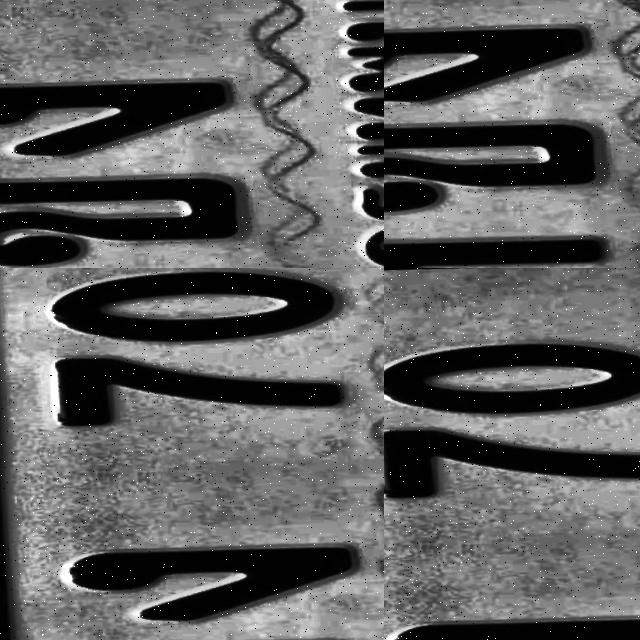license-plate: (384, 268, 640, 640), (384, 106, 454, 268)
